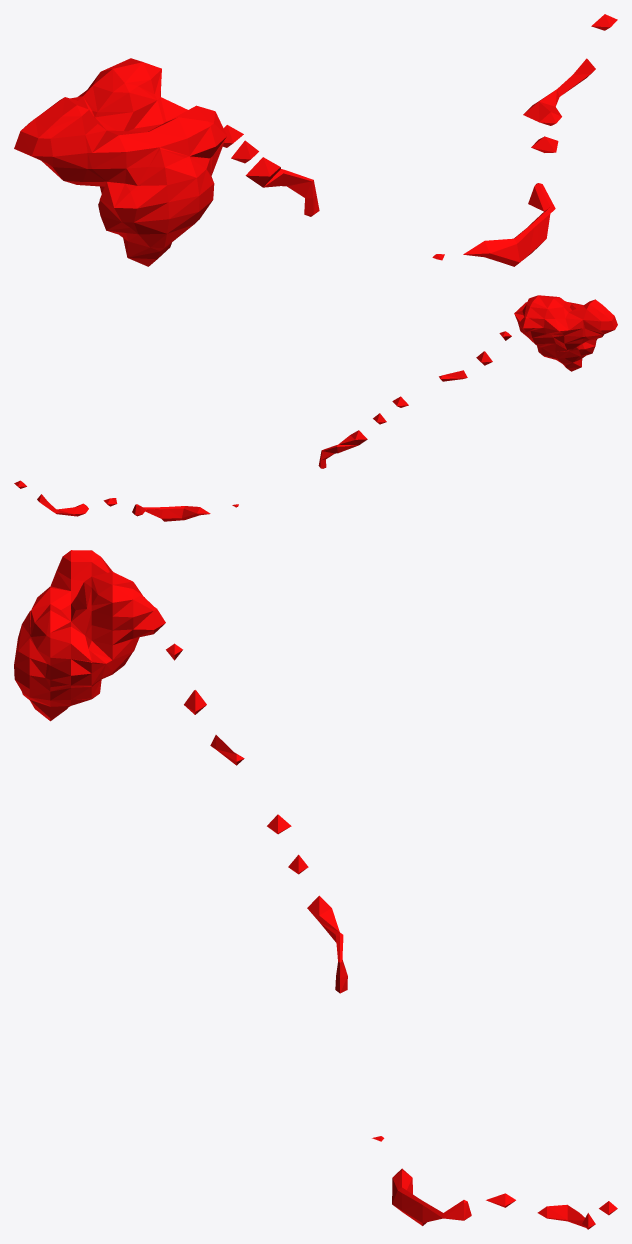
File: ptsP_coarse.dae
3 views of the same model, one above another, from view 1: azimuth 30°, elevation 25°; view 2: azimuth 150°, elevation 25°; view 3: azimuth 270°, elevation 25° (orthographic). The views are drawn at different scales.
Parts seen in each view (by area): view 1: ptsP; view 2: ptsP; view 3: ptsP.
Part boxes in pixels (x1,y1,x2,y2): ptsP: [14, 14, 617, 266]; ptsP: [14, 295, 617, 521]; ptsP: [14, 550, 617, 1229].
Size of the model in its own units: 423 by 207 by 282.
